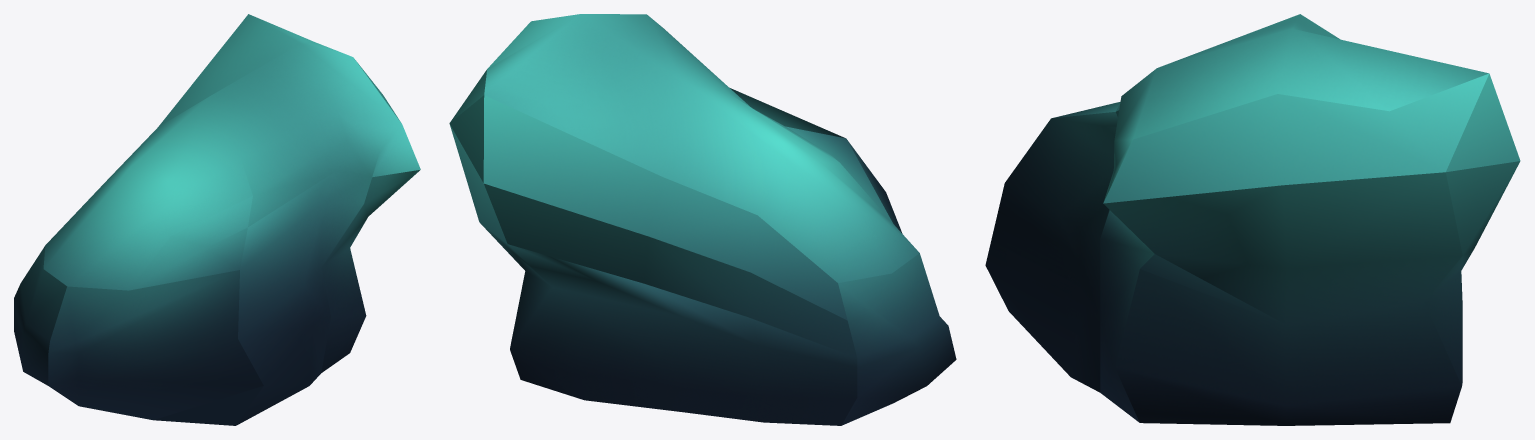
File: Rock_03.fbx
The picture shows the model from 3 angles, left to right: view 1: azimuth 30°, elevation 25°; view 2: azimuth 150°, elevation 25°; view 3: azimuth 270°, elevation 25°; orthographic projection. The views are drawn at different scales.
Parts seen in each view (by area): view 1: Rock03_GEO; view 2: Rock03_GEO; view 3: Rock03_GEO.
Boxes of the visible parts, <box> form: Rock03_GEO: <box>14,14,420,425</box>; Rock03_GEO: <box>449,14,956,425</box>; Rock03_GEO: <box>985,14,1520,425</box>.
Bounding box in the file's own units: 36.5 × 25.99 × 31.64.
